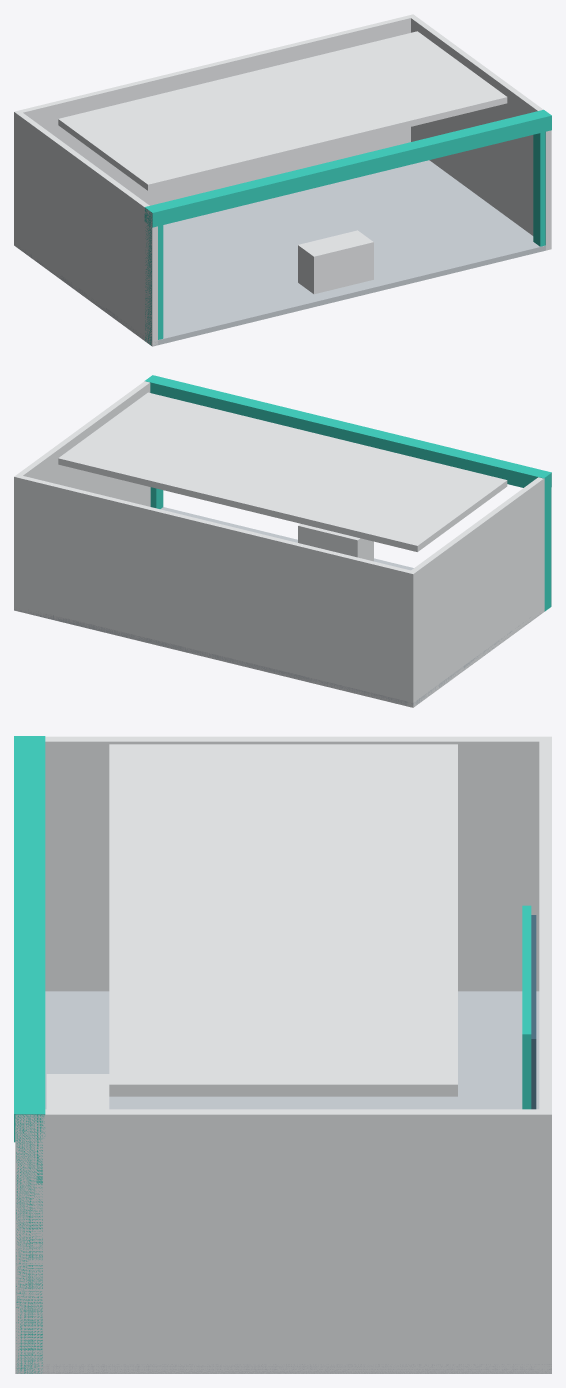
3 renders of one model, top to bottom at view 1: azimuth 30°, elevation 25°; view 2: azimuth 150°, elevation 25°; view 3: azimuth 270°, elevation 25°, orthographic. The views are drawn at different scales.
Parts seen in each view (by area): view 1: Exhibition Booth Concept; view 2: Exhibition Booth Concept; view 3: Exhibition Booth Concept.
Boxes of the visible parts, x1,y1,x2,y2 form: Exhibition Booth Concept: (14,14,551,346); Exhibition Booth Concept: (14,375,551,707); Exhibition Booth Concept: (14,736,551,1373).
Size of the model in its own units: 10 by 3.34 by 6.02.
